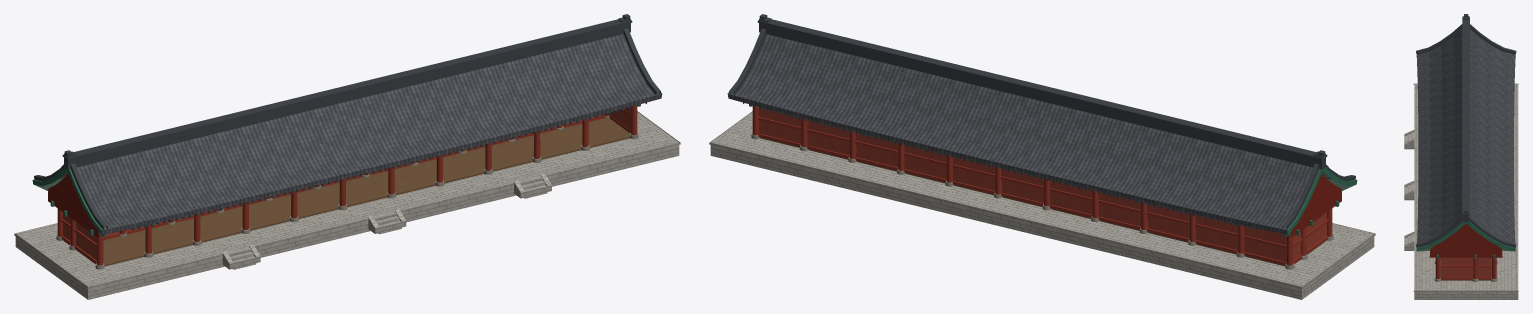
3 views of the same model, side by side, from view 1: azimuth 30°, elevation 25°; view 2: azimuth 150°, elevation 25°; view 3: azimuth 270°, elevation 25° (orthographic). The views are drawn at different scales.
Parts seen in each view (by area): view 1: seomu; view 2: seomu; view 3: seomu.
Boxes of the visible parts, x1,y1,x2,y2 form: seomu: [14, 14, 680, 299]; seomu: [709, 14, 1375, 299]; seomu: [1404, 14, 1518, 299].
Bounding box in the file's own units: 47.13 × 8.93 × 11.02.
Materials: 11 (10 with a texture image).
